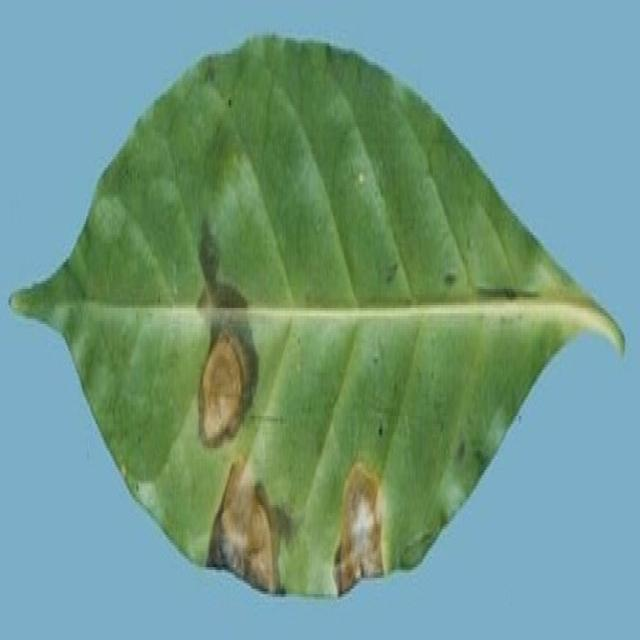Enfermedad-Mancha-de-hierro: (7, 35, 626, 602)
